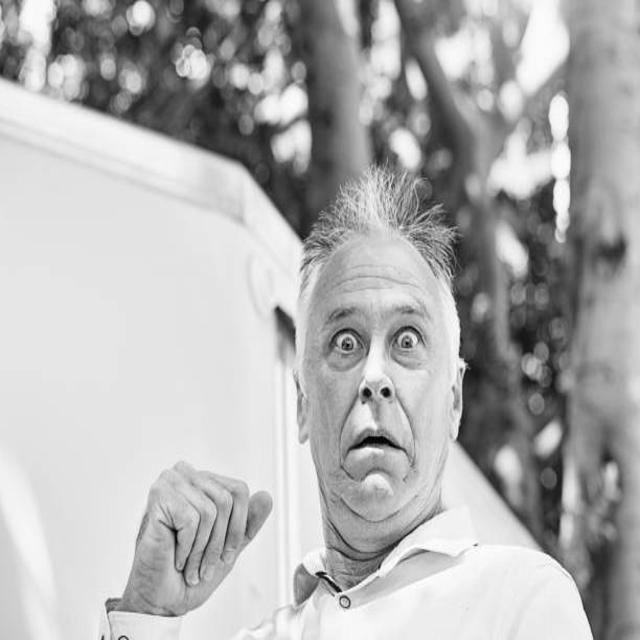Fear: (300, 230, 458, 534)
